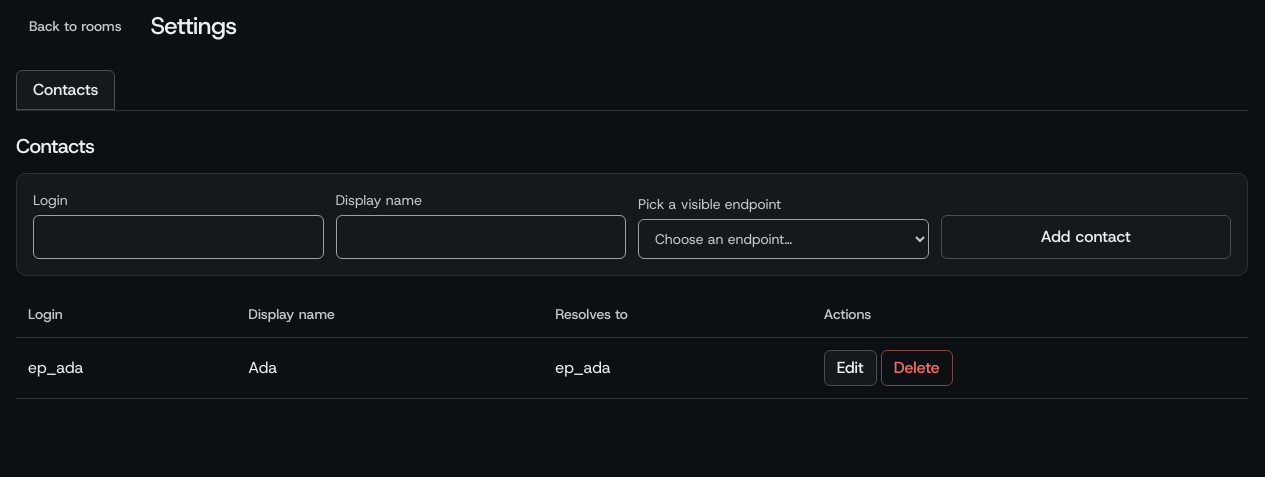
Test: SettingsPage contacts › adds a contact and invalidates the contacts query for a refetch
Expected: the row "ep_ada Ada ep_ada Edit Delete" is shown, [16, 338, 1248, 398]
Type "new_login" into the field labelled "Login".
click(178, 237); type("new_login")  # box [33, 215, 324, 259]
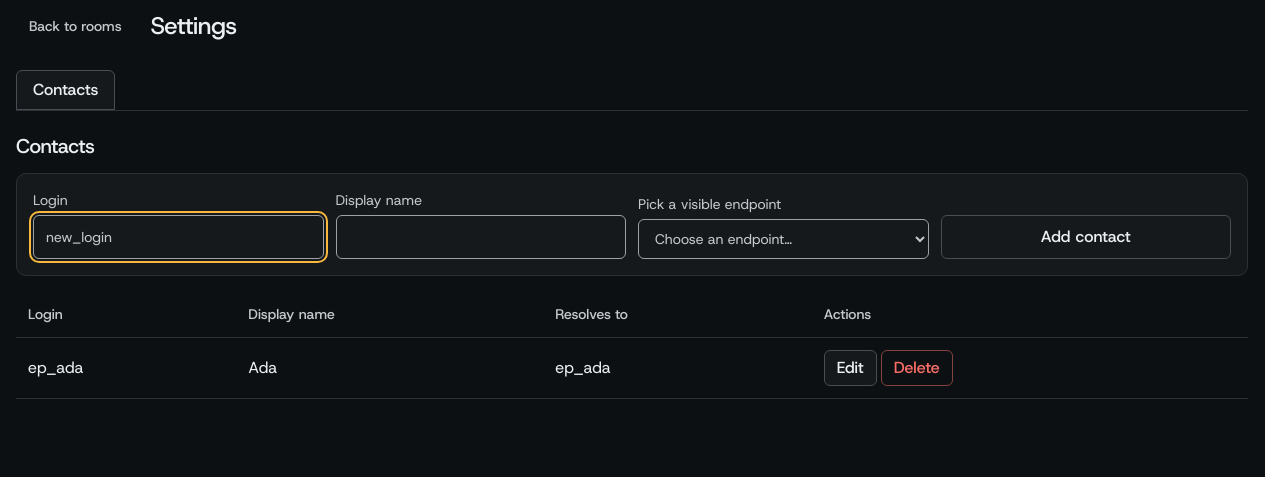
Type "New Person" into the field named "New contact display name".
click(481, 237); type("New Person")  # box [336, 215, 626, 259]
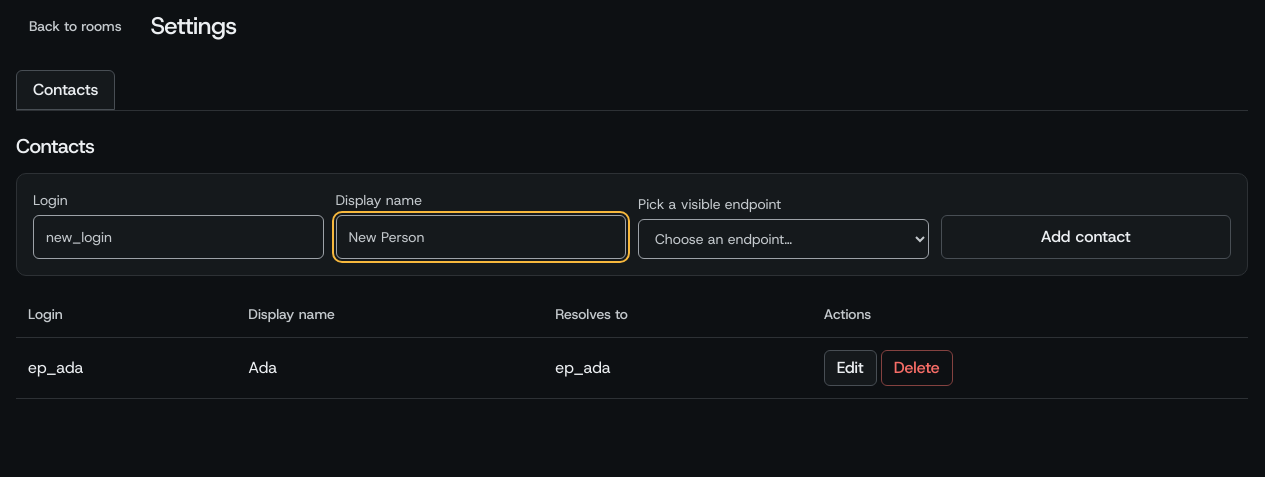
Click the button "Add contact".
click(1086, 237)  # box [940, 215, 1231, 259]
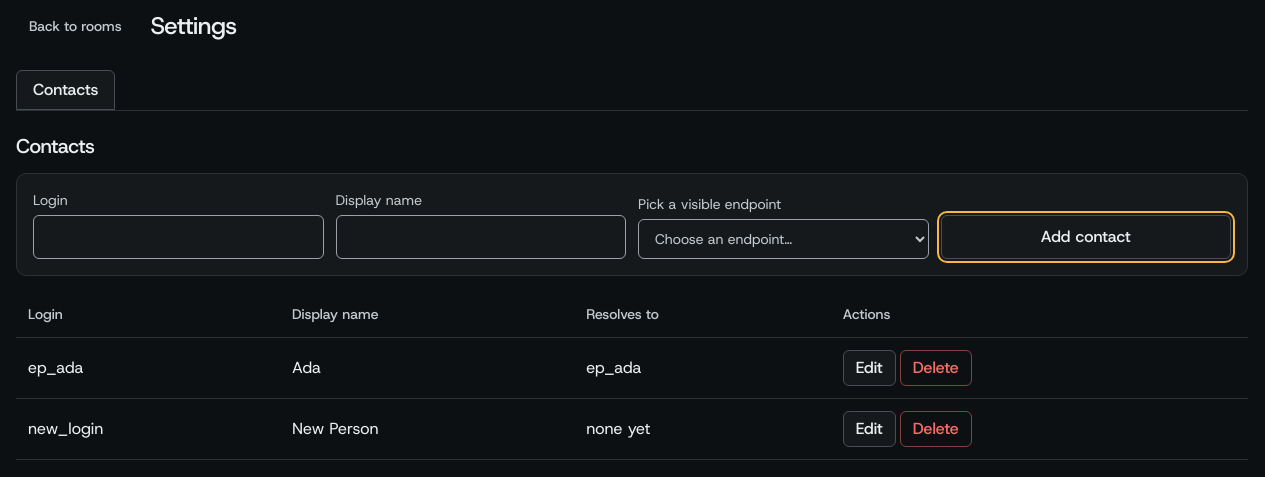
Expected: the text "new_login" is shown, [16, 398, 280, 460]
